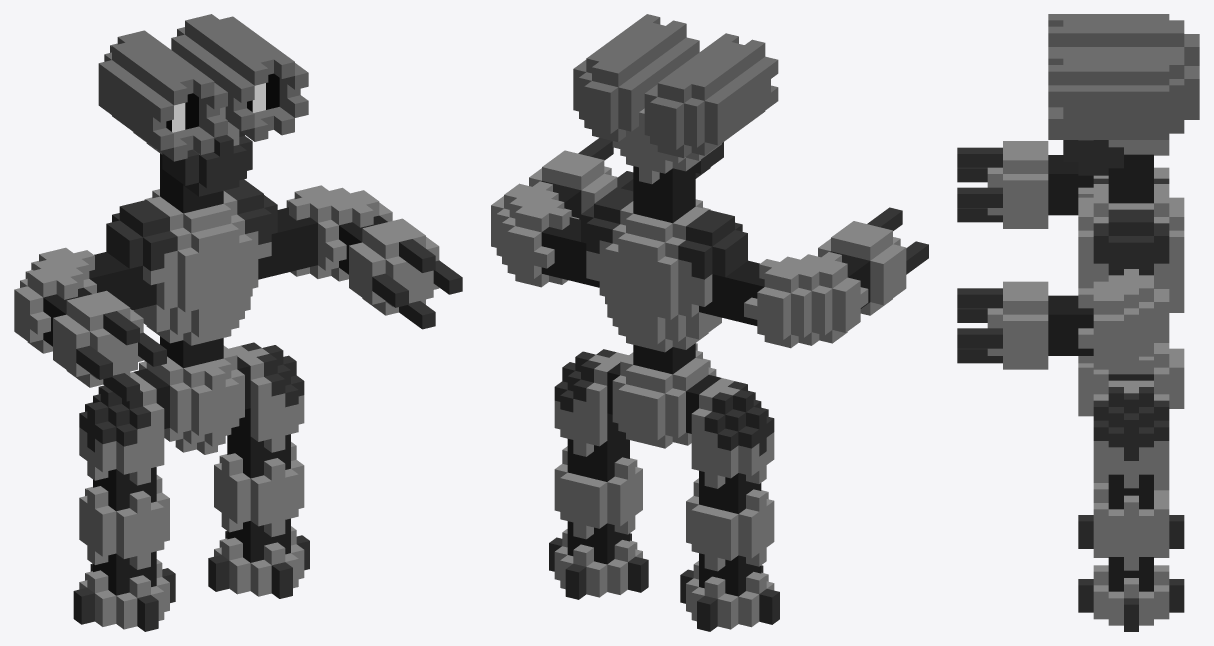
Rendered from Janitor.obj.
The picture shows the model from 3 angles, left to right: view 1: azimuth 30°, elevation 25°; view 2: azimuth 150°, elevation 25°; view 3: azimuth 270°, elevation 25°; orthographic projection. The views are drawn at different scales.
Parts seen in each view (by area): view 1: Janitor; view 2: Janitor; view 3: Janitor.
Boxes of the visible parts, x1,y1,x2,y2 form: Janitor: (14, 14, 462, 631); Janitor: (491, 14, 928, 631); Janitor: (957, 14, 1199, 631).
Bounding box in the file's own units: 2.7 × 3.9 × 1.6.
Materials: 1 (1 with a texture image).
